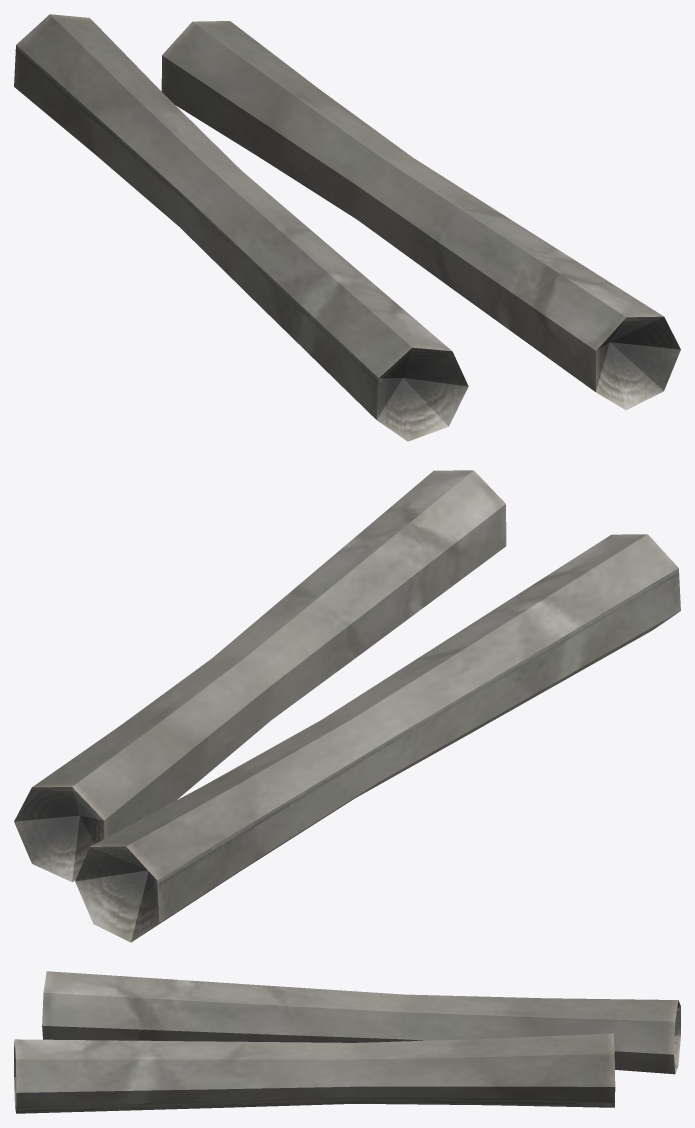
Rendered from Rulons.FBX.
3 views of the same model, one above another, from view 1: azimuth 30°, elevation 25°; view 2: azimuth 150°, elevation 25°; view 3: azimuth 270°, elevation 25° (orthographic). The views are drawn at different scales.
Visible parts, largest first — view 1: Rulons; view 2: Rulons; view 3: Rulons.
Part boxes in pixels (x1,y1,x2,y2): Rulons: (14,14,680,441); Rulons: (14,470,680,942); Rulons: (14,971,680,1113).
Size of the model in its own units: 11.45 by 32.43 by 3.76.
